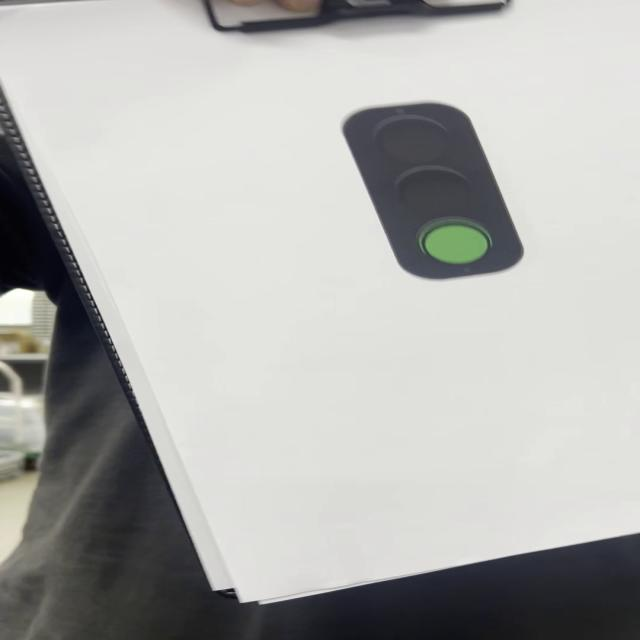green: (345, 103, 525, 281)
